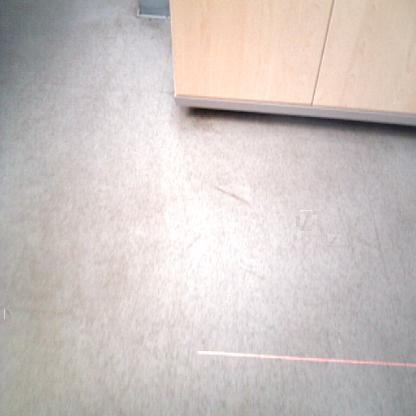mark: (213, 186, 250, 206), (184, 232, 201, 252), (298, 213, 315, 229), (326, 233, 340, 246), (4, 309, 11, 319)
